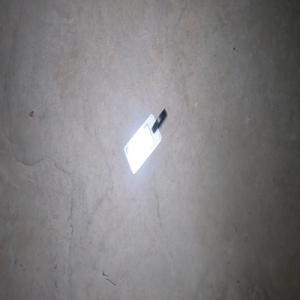LuggageTag: (122, 107, 167, 175)
